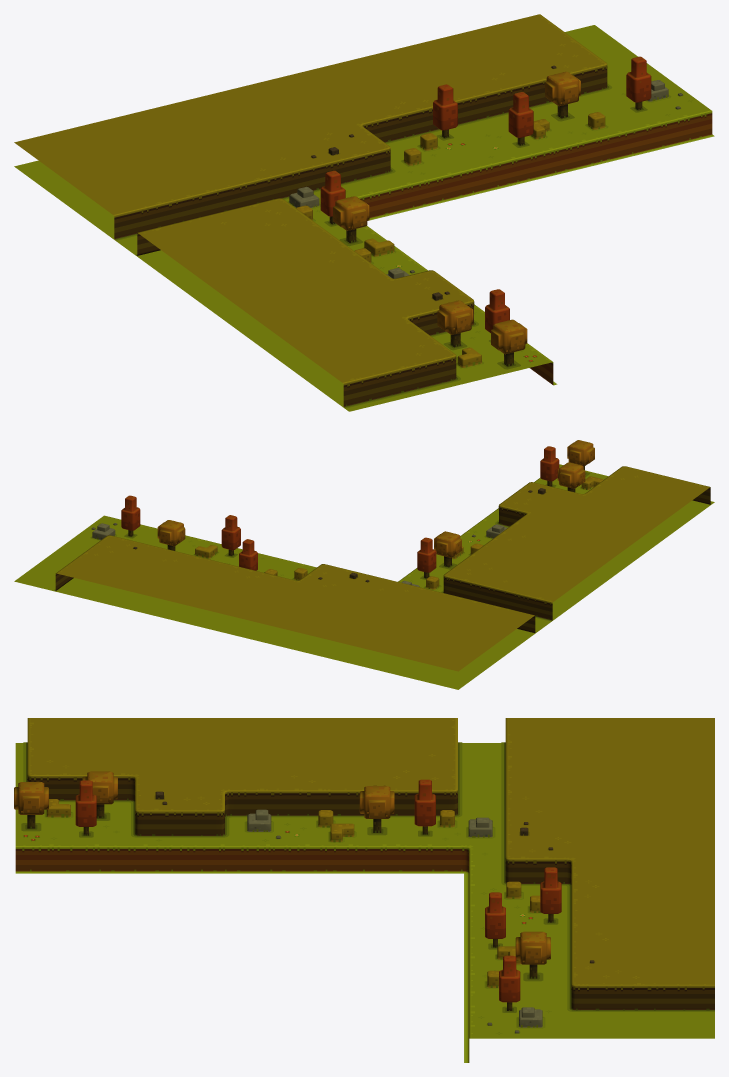
File: C_grass2_out_RD.fbx
The picture shows the model from 3 angles, top to bottom: view 1: azimuth 30°, elevation 25°; view 2: azimuth 150°, elevation 25°; view 3: azimuth 270°, elevation 25°; orthographic projection. The views are drawn at different scales.
Visible parts, largest first — view 1: C_grass2_out_RD; view 2: C_grass2_out_RD; view 3: C_grass2_out_RD.
Part boxes in pixels (bbox=[...]): C_grass2_out_RD: bbox=[14, 14, 714, 411]; C_grass2_out_RD: bbox=[14, 440, 714, 689]; C_grass2_out_RD: bbox=[14, 718, 714, 1062].
Bounding box in the file's own units: 117 × 14.32 × 117.
